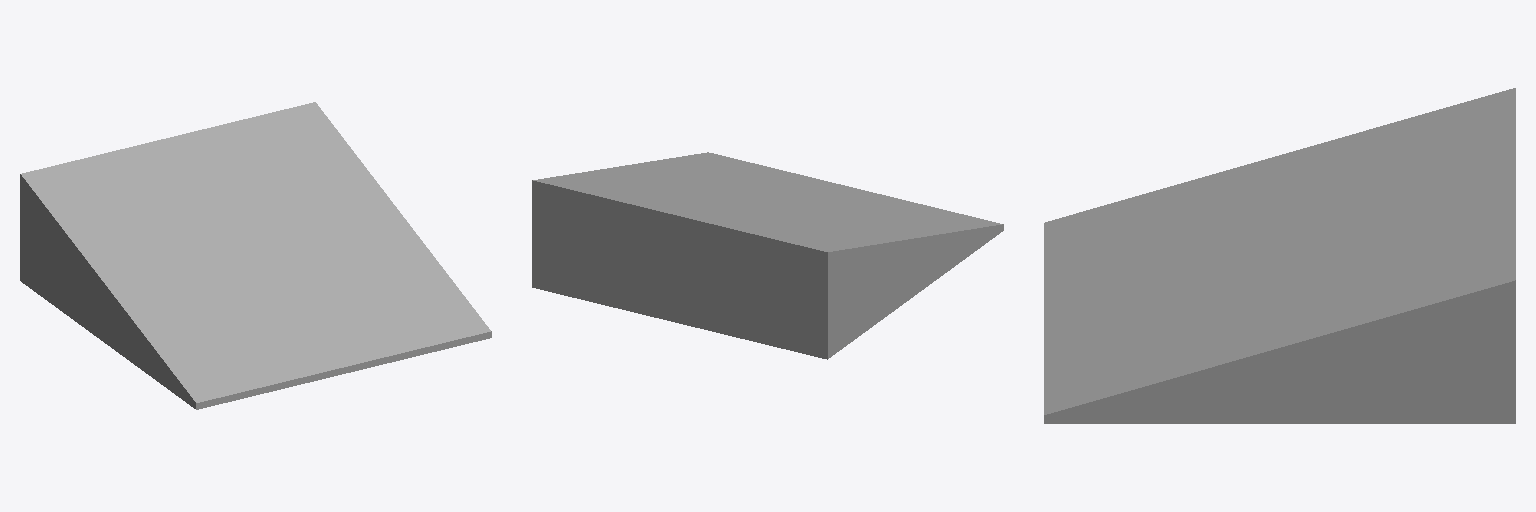
URDF robot description (ramp_475_46_16):
<?xml version='1.0' encoding='utf-8'?>
<robot name="ramp_475_46_16">
  <link name="base_link">
    <inertial>
      <origin xyz="0.0 0.0 0.0" rpy="0 0 0" />
      <mass value="1" />
      <inertia ixx="0.001" ixy="0" ixz="0" iyy="0.001" iyz="0" izz="0.001" />
    </inertial>
    <visual>
      <origin xyz="0 0 0" rpy="0 0 0" />
      <geometry>
        <mesh filename="package://ramp_475_46_16/meshes/ramp_475_46_16.stl" scale="1 1 1" />
      </geometry>
      <material name="grey">
        <color rgba="0.7 0.7 0.7 1.0" />
      </material>
    </visual>
    <collision>
      <origin xyz="0 0 0" rpy="0 0 0" />
      <geometry>
        <mesh filename="package://ramp_475_46_16/meshes/ramp_475_46_16.stl" scale="1 1 1" />
      </geometry>
    </collision>
  </link>
</robot>

--- What the picture shows (computed from the rendered views, not written in the file) ---
Views: 3 orthographic renders of the robot side by side, from view 1: azimuth 30°, elevation 25°; view 2: azimuth 150°, elevation 25°; view 3: azimuth 270°, elevation 25°.
Robot: ramp_475_46_16 — 1 links, 0 joints (none); root link base_link; default pose: every joint at zero.
Links seen in each view (by area): view 1: base_link; view 2: base_link; view 3: base_link.
Link boxes in pixels (left/top/right/bottom): base_link: left=20, top=102, right=491, bottom=409; base_link: left=532, top=152, right=1003, bottom=359; base_link: left=1044, top=88, right=1515, bottom=423.
Size in the robot's own frame: 0.46 by 0.475 by 0.16 metres.
1 mesh visuals loaded from 1 distinct referenced files (1 binary STL).